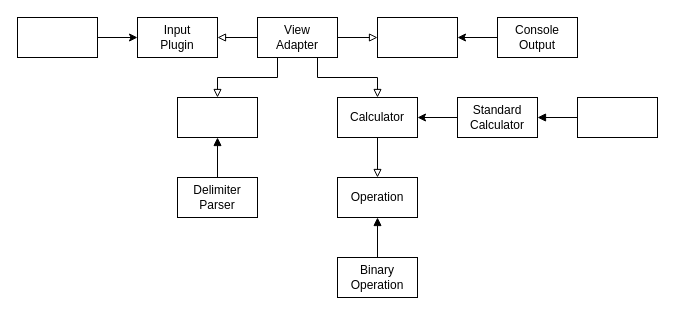
Some shapes in this 675 by 315 pixel diagram are drawn without their labels. Each missing label, with the box of its shape:
Calculator Factory: (576, 96, 658, 138)
Console Input: (16, 16, 98, 58)
Output Plugin: (376, 16, 458, 58)
Parser: (176, 96, 258, 138)
